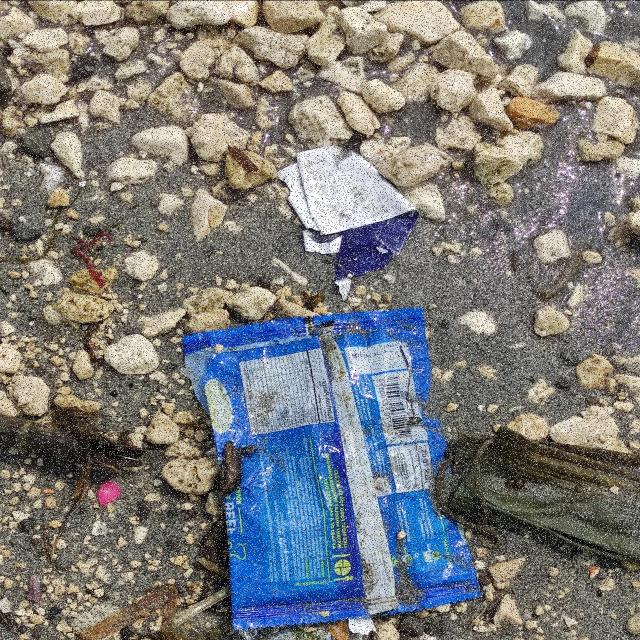plastic_waste: (180, 307, 486, 634), (278, 145, 423, 302)
